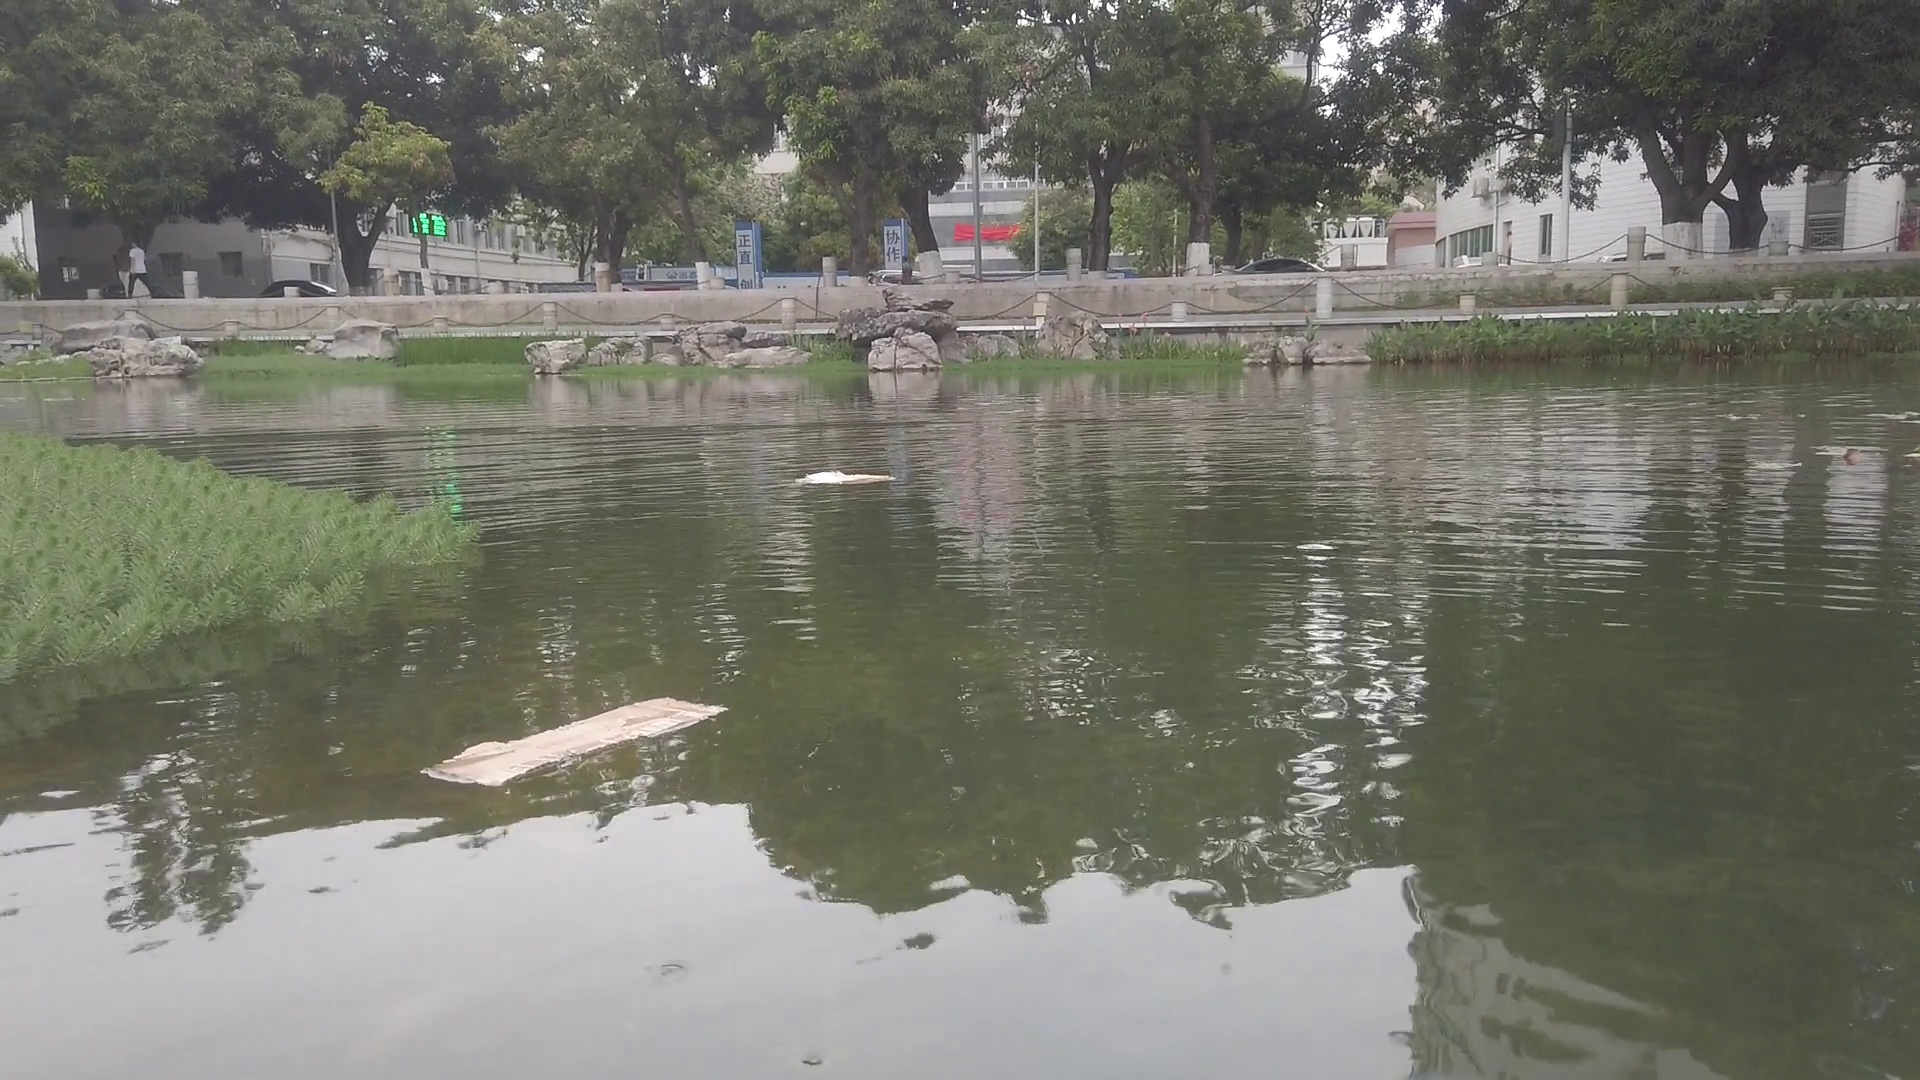paper: (434, 688, 727, 793), (795, 471, 891, 483)
